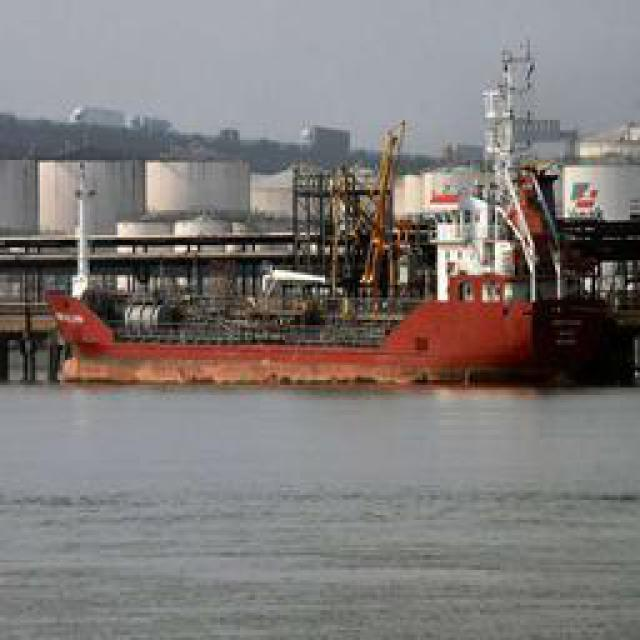Ship: (42, 67, 572, 390)
